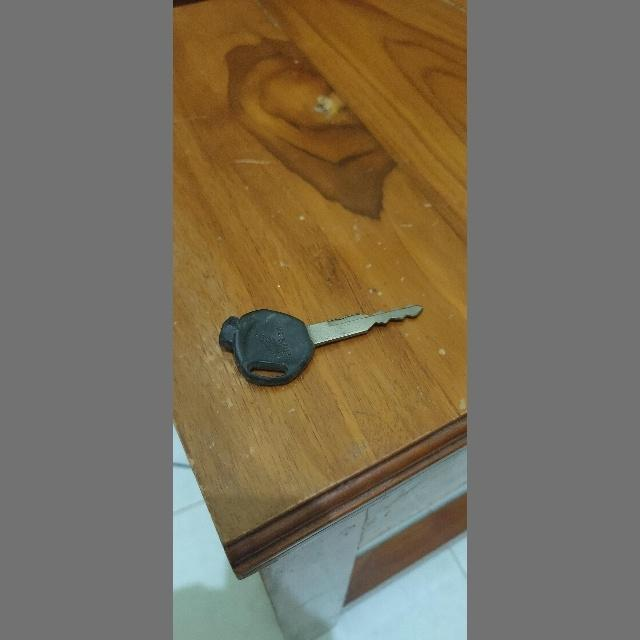Keys: (214, 293, 430, 389)
